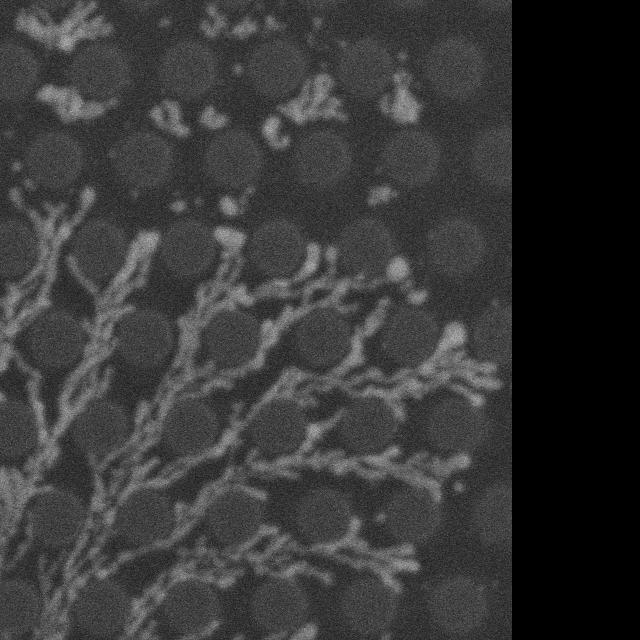Dendrite: (92, 233, 252, 530), (26, 231, 159, 498), (130, 517, 419, 628), (208, 245, 410, 392), (187, 422, 470, 515), (226, 299, 389, 443), (0, 187, 94, 421), (304, 321, 500, 422), (26, 506, 127, 637), (116, 503, 200, 567), (246, 243, 334, 301), (15, 0, 112, 52), (0, 471, 40, 586), (279, 72, 345, 125), (37, 85, 118, 124), (379, 55, 422, 124), (127, 453, 201, 485), (200, 0, 259, 39), (16, 357, 46, 426), (386, 258, 428, 302), (150, 100, 190, 138), (262, 115, 290, 151), (215, 226, 245, 253), (198, 105, 228, 129), (368, 183, 397, 206), (219, 194, 248, 216), (169, 197, 186, 213), (42, 436, 53, 448), (393, 268, 395, 270)
